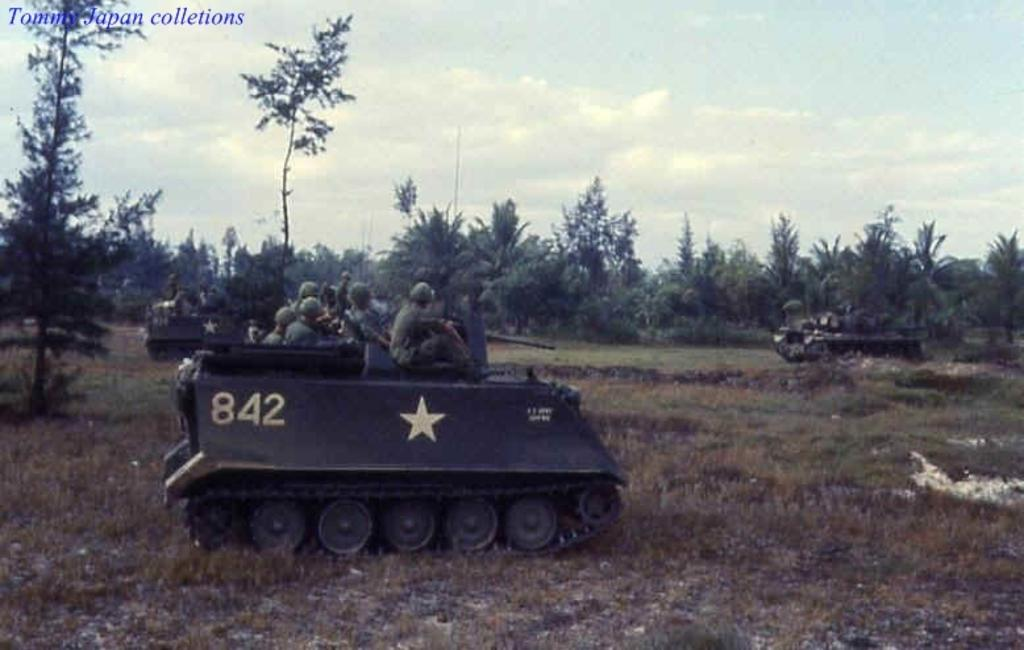Tank: (161, 122, 625, 563), (149, 261, 290, 364), (775, 301, 936, 358)
